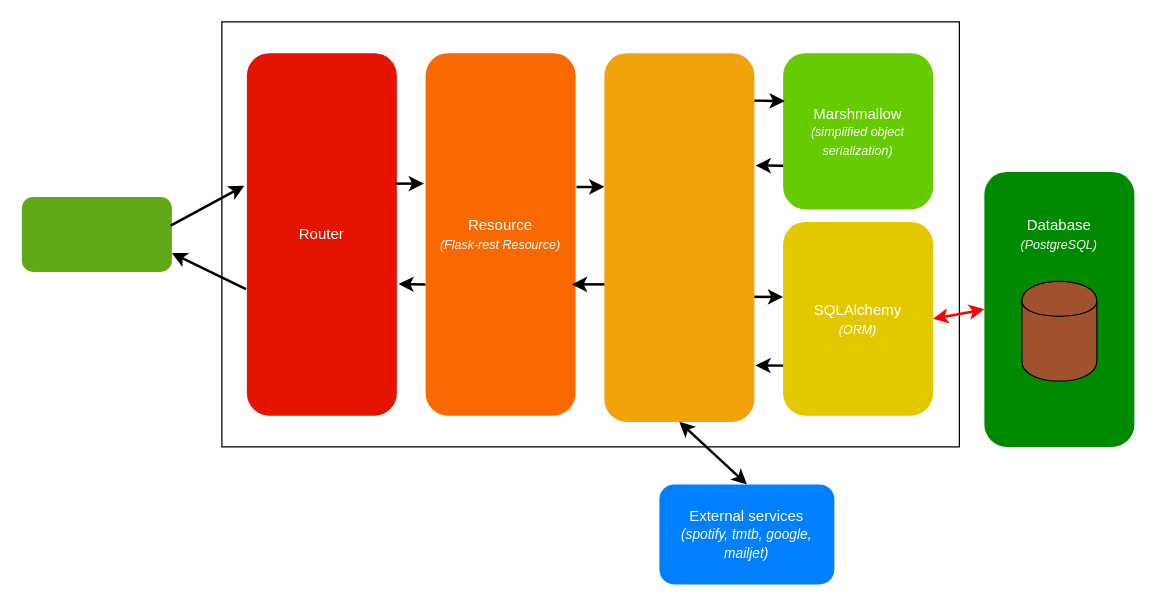
The diagram is 1155 pixels wide and 606 high, and some of its shapes have lost their labels. The shapes that lost their labels are listed below. From the top down, each one's box as (x1, y1, x2, y2) in pixels, then its label:
(21, 196, 171, 271): Client
(604, 52, 754, 421): Services
